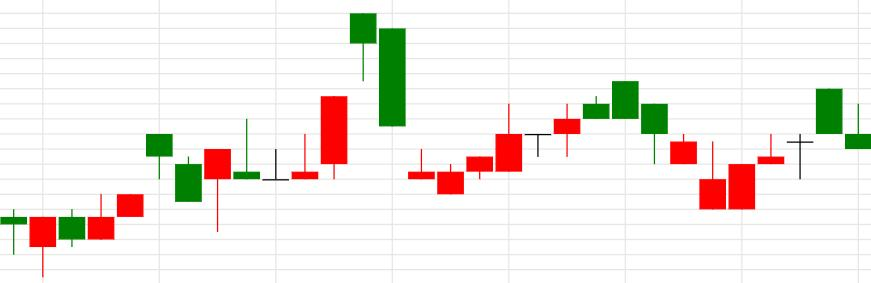hanging_man_fall: (174, 14, 376, 231)
inverse_hammer_rise: (611, 80, 727, 211)
